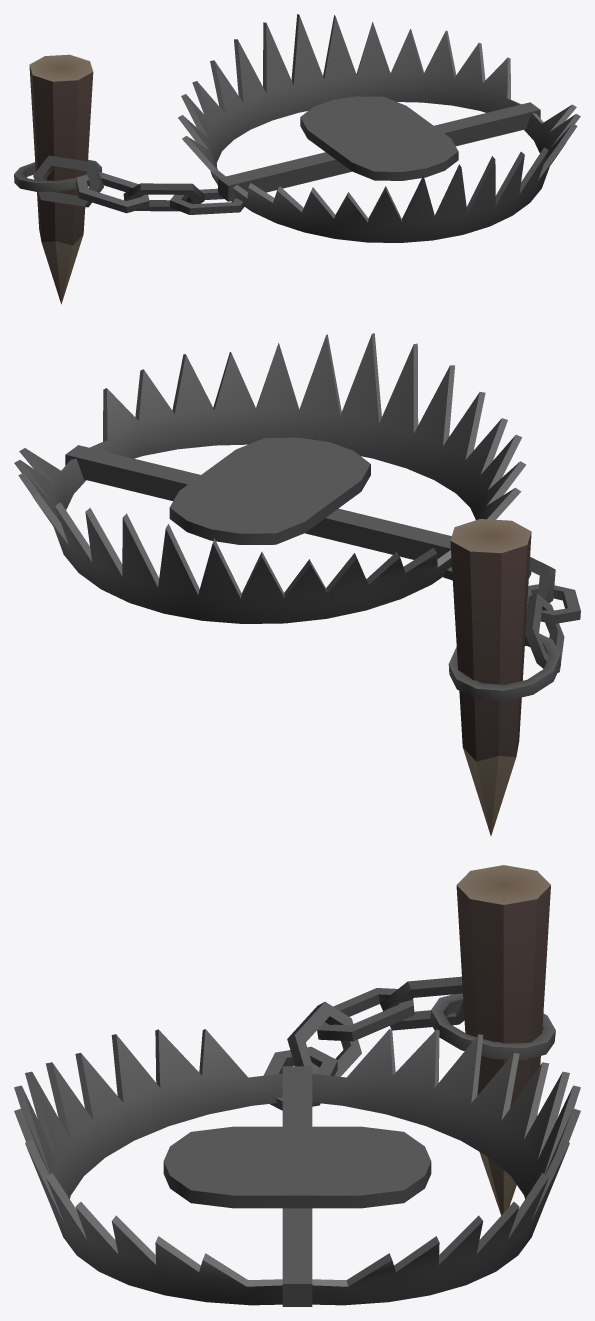
Rendered from human-tools-bear-trap_v1.fbx.
3 renders of one model, top to bottom at view 1: azimuth 30°, elevation 25°; view 2: azimuth 150°, elevation 25°; view 3: azimuth 270°, elevation 25°, orthographic. The views are drawn at different scales.
Visible parts, largest first — view 1: Bear Trap; view 2: Bear Trap; view 3: Bear Trap.
Boxes of the visible parts, <box> form: Bear Trap: <box>14,14,580,304</box>; Bear Trap: <box>14,333,580,835</box>; Bear Trap: <box>14,865,580,1306</box>.
Size of the model in its own units: 0.4 by 0.1986 by 0.3016.
